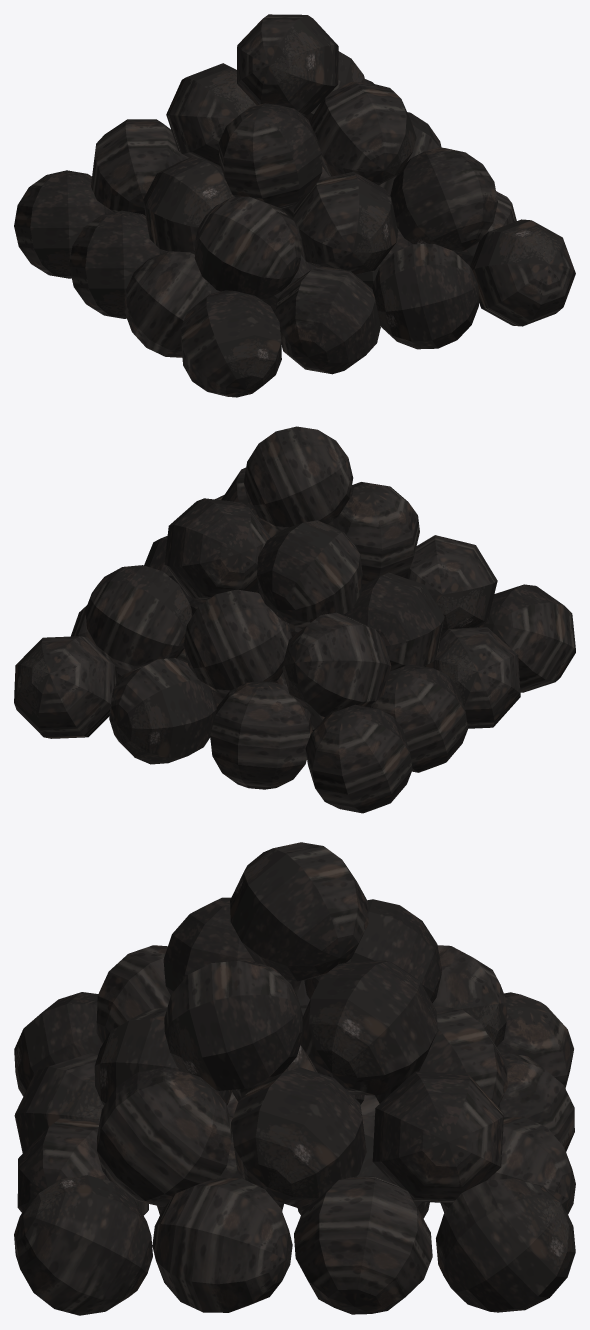
The model's file is cannon_balls.glb.
3 renders of one model, top to bottom at view 1: azimuth 30°, elevation 25°; view 2: azimuth 150°, elevation 25°; view 3: azimuth 270°, elevation 25°, orthographic. The views are drawn at different scales.
Visible parts, largest first — view 1: Sphere.014, Sphere.012, Sphere.022, Sphere.013, Sphere.024, Sphere.025, Sphere.015, Sphere.023, Sphere.029, Sphere.028, Sphere, Sphere.004 (+8 smaller); view 2: Sphere, Sphere.002, Sphere.029, Sphere.001, Sphere.026, Sphere.003, Sphere.016, Sphere.018, Sphere.017, Sphere.027, Sphere.004, Sphere.012 (+6 smaller); view 3: Sphere.015, Sphere.011, Sphere.003, Sphere.007, Sphere.029, Sphere.028, Sphere.022, Sphere.027, Sphere.019, Sphere.016, Sphere.012, Sphere.026 (+11 smaller).
Part boxes in pixels (x1,y1,x2,y2): Sphere.014: [372, 244, 478, 349]; Sphere.012: [181, 290, 281, 397]; Sphere.022: [390, 147, 497, 252]; Sphere.013: [275, 266, 380, 374]; Sphere.024: [194, 196, 301, 300]; Sphere.025: [218, 103, 322, 209]; Sphere.015: [470, 219, 575, 326]; Sphere.023: [293, 172, 398, 274]; Sphere.029: [237, 14, 338, 115]; Sphere.028: [310, 81, 416, 185]; Sphere: [14, 170, 112, 278]; Sphere.004: [69, 210, 165, 318]; Sphere: [305, 704, 412, 813]; Sphere.002: [109, 658, 216, 764]; Sphere.029: [243, 426, 353, 530]; Sphere.001: [210, 681, 312, 789]; Sphere.026: [257, 520, 362, 628]; Sphere.003: [14, 636, 117, 738]; Sphere.016: [85, 565, 192, 670]; Sphere.018: [282, 612, 391, 717]; Sphere.017: [183, 589, 292, 694]; Sphere.027: [164, 498, 270, 600]; Sphere.004: [368, 664, 467, 772]; Sphere.012: [478, 584, 575, 692]; Sphere.015: [14, 1175, 152, 1315]; Sphere.011: [152, 1178, 292, 1312]; Sphere.003: [436, 1178, 575, 1312]; Sphere.007: [294, 1176, 432, 1314]; Sphere.029: [230, 842, 368, 981]; Sphere.028: [164, 960, 302, 1090]; Sphere.022: [97, 1067, 231, 1207]; Sphere.027: [300, 960, 437, 1095]; Sphere.019: [231, 1067, 366, 1207]; Sphere.016: [372, 1071, 503, 1203]; Sphere.012: [14, 992, 101, 1096]; Sphere.026: [304, 899, 442, 1002].
Size of the model in its own units: 2.04 by 1.43 by 2.
Materials: 1 (1 with a texture image).
